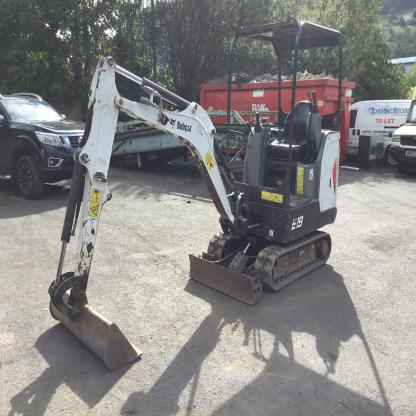excavator: (32, 13, 348, 376)
